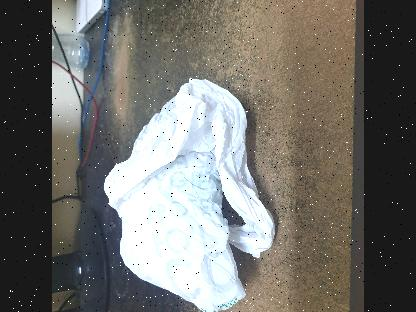Others: (100, 72, 279, 312)
